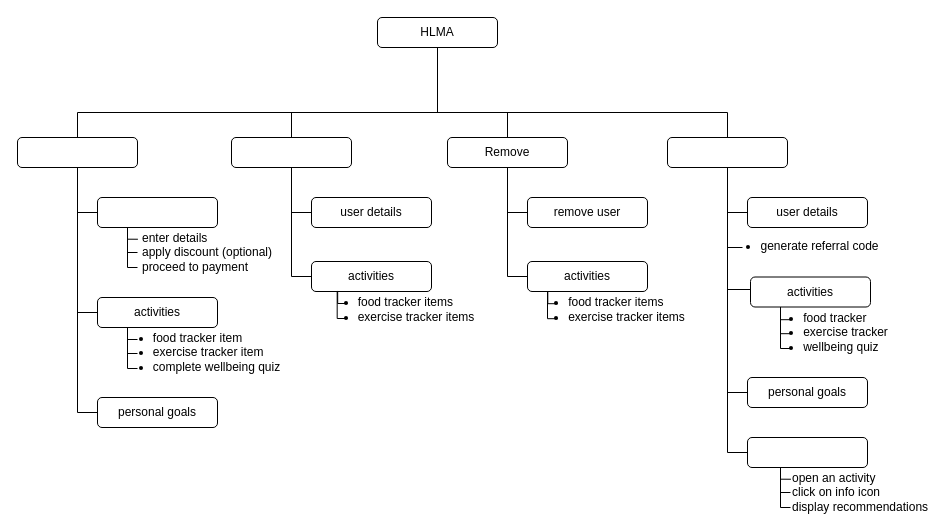
This 948x531 diagram has some shape labels left out. The centre of each missing label's shape, as x and y in pixels:
"Edit" belongs at pixel 291 152.
"New" belongs at pixel 77 152.
"recommendations" belongs at pixel 807 452.
"register user" belongs at pixel 157 212.
"View" belongs at pixel 727 152.
